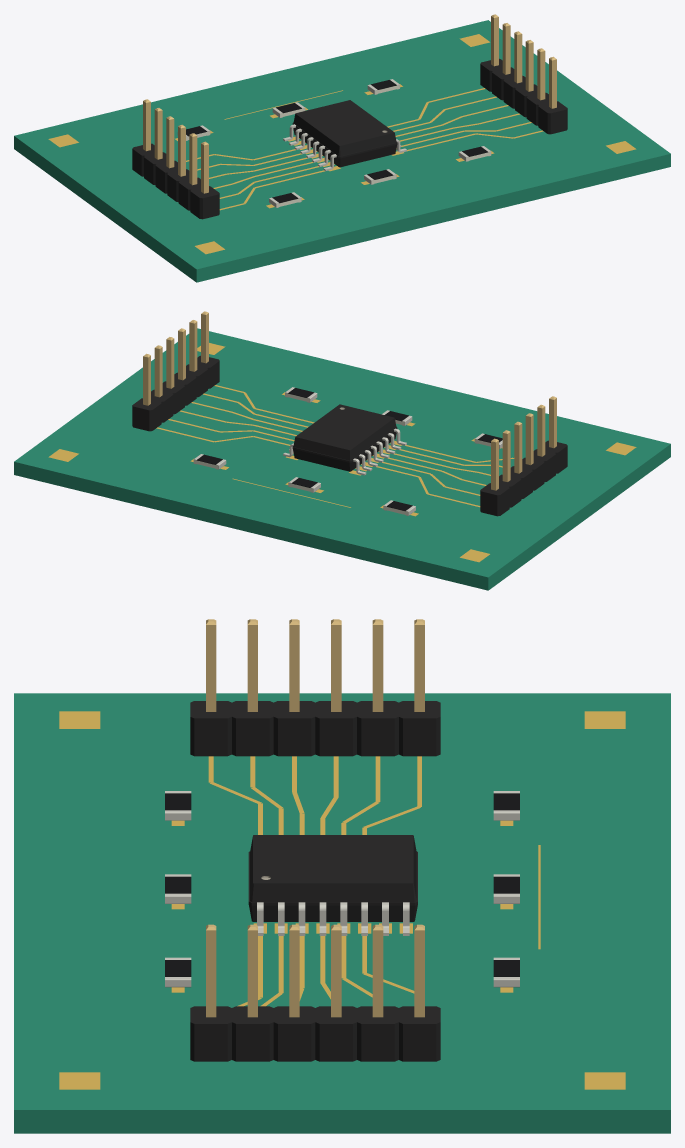
Rendered from b60d8522-e88a-4111-b69f-adfa1fdacf29.glb.
3 views of the same model, one above another, from view 1: azimuth 30°, elevation 25°; view 2: azimuth 150°, elevation 25°; view 3: azimuth 270°, elevation 25° (orthographic). The views are drawn at different scales.
Parts seen in each view (by area): view 1: mesh_0, J2, J1, U1, mesh_0_1; view 2: mesh_0, J1, J2, U1, mesh_0_1; view 3: mesh_0, J1, J2, U1, mesh_0_1, R3, R6, R1, R2, R4, R5.
Part boxes in pixels (box(x1,y1,x2,y2)): mesh_0: box(14, 20, 670, 282); J2: box(480, 14, 567, 134); J1: box(132, 99, 219, 219); U1: box(283, 100, 406, 171); mesh_0_1: box(48, 34, 636, 254); mesh_0: box(14, 328, 670, 590); J1: box(480, 396, 567, 516); J2: box(132, 311, 219, 431); U1: box(283, 404, 406, 475); mesh_0_1: box(48, 343, 636, 562); mesh_0: box(14, 693, 670, 1133); J1: box(190, 619, 440, 756); J2: box(190, 924, 440, 1061); U1: box(248, 835, 417, 935); mesh_0_1: box(59, 711, 625, 1089); R3: box(165, 957, 191, 987); R6: box(493, 957, 519, 987); R1: box(165, 791, 191, 820); R2: box(165, 874, 191, 903); R4: box(493, 791, 519, 820); R5: box(493, 874, 519, 903).
Bounding box in the file's own units: 60 × 11.54 × 40.
